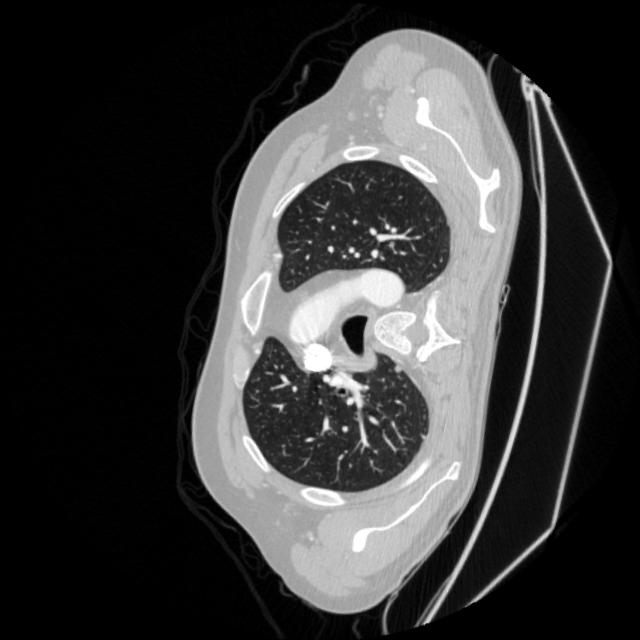nodule: (385, 358, 407, 381)
